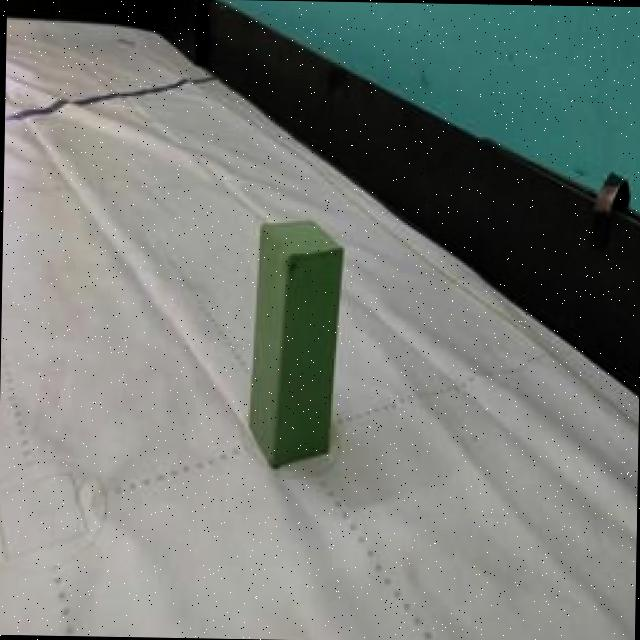greenbox: (245, 210, 346, 470)
